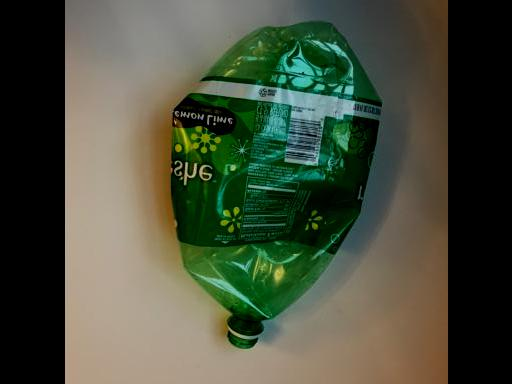bottle: (162, 12, 388, 357)
